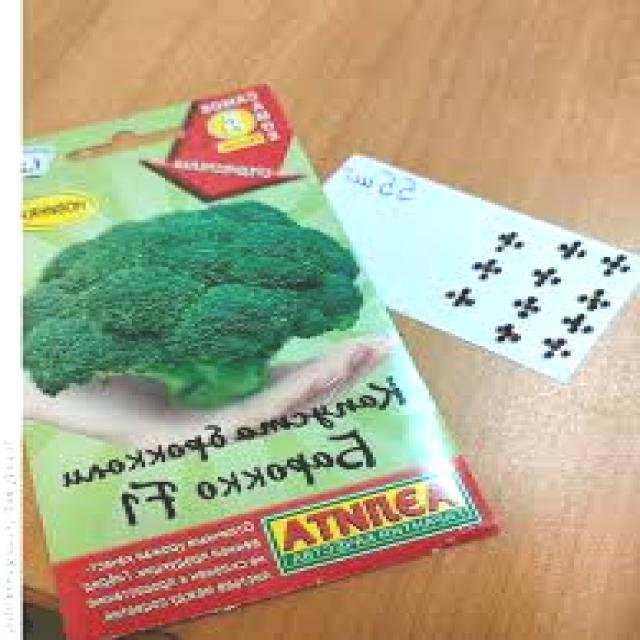broccoli: (16, 187, 346, 426)
